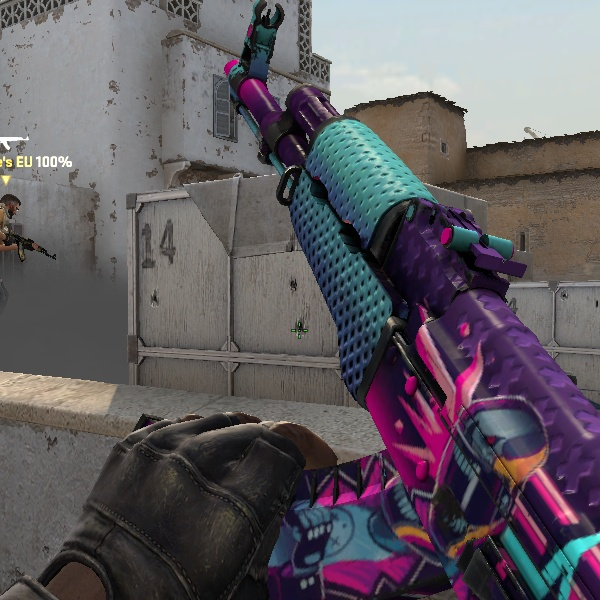t_head: (1, 186, 26, 230)
